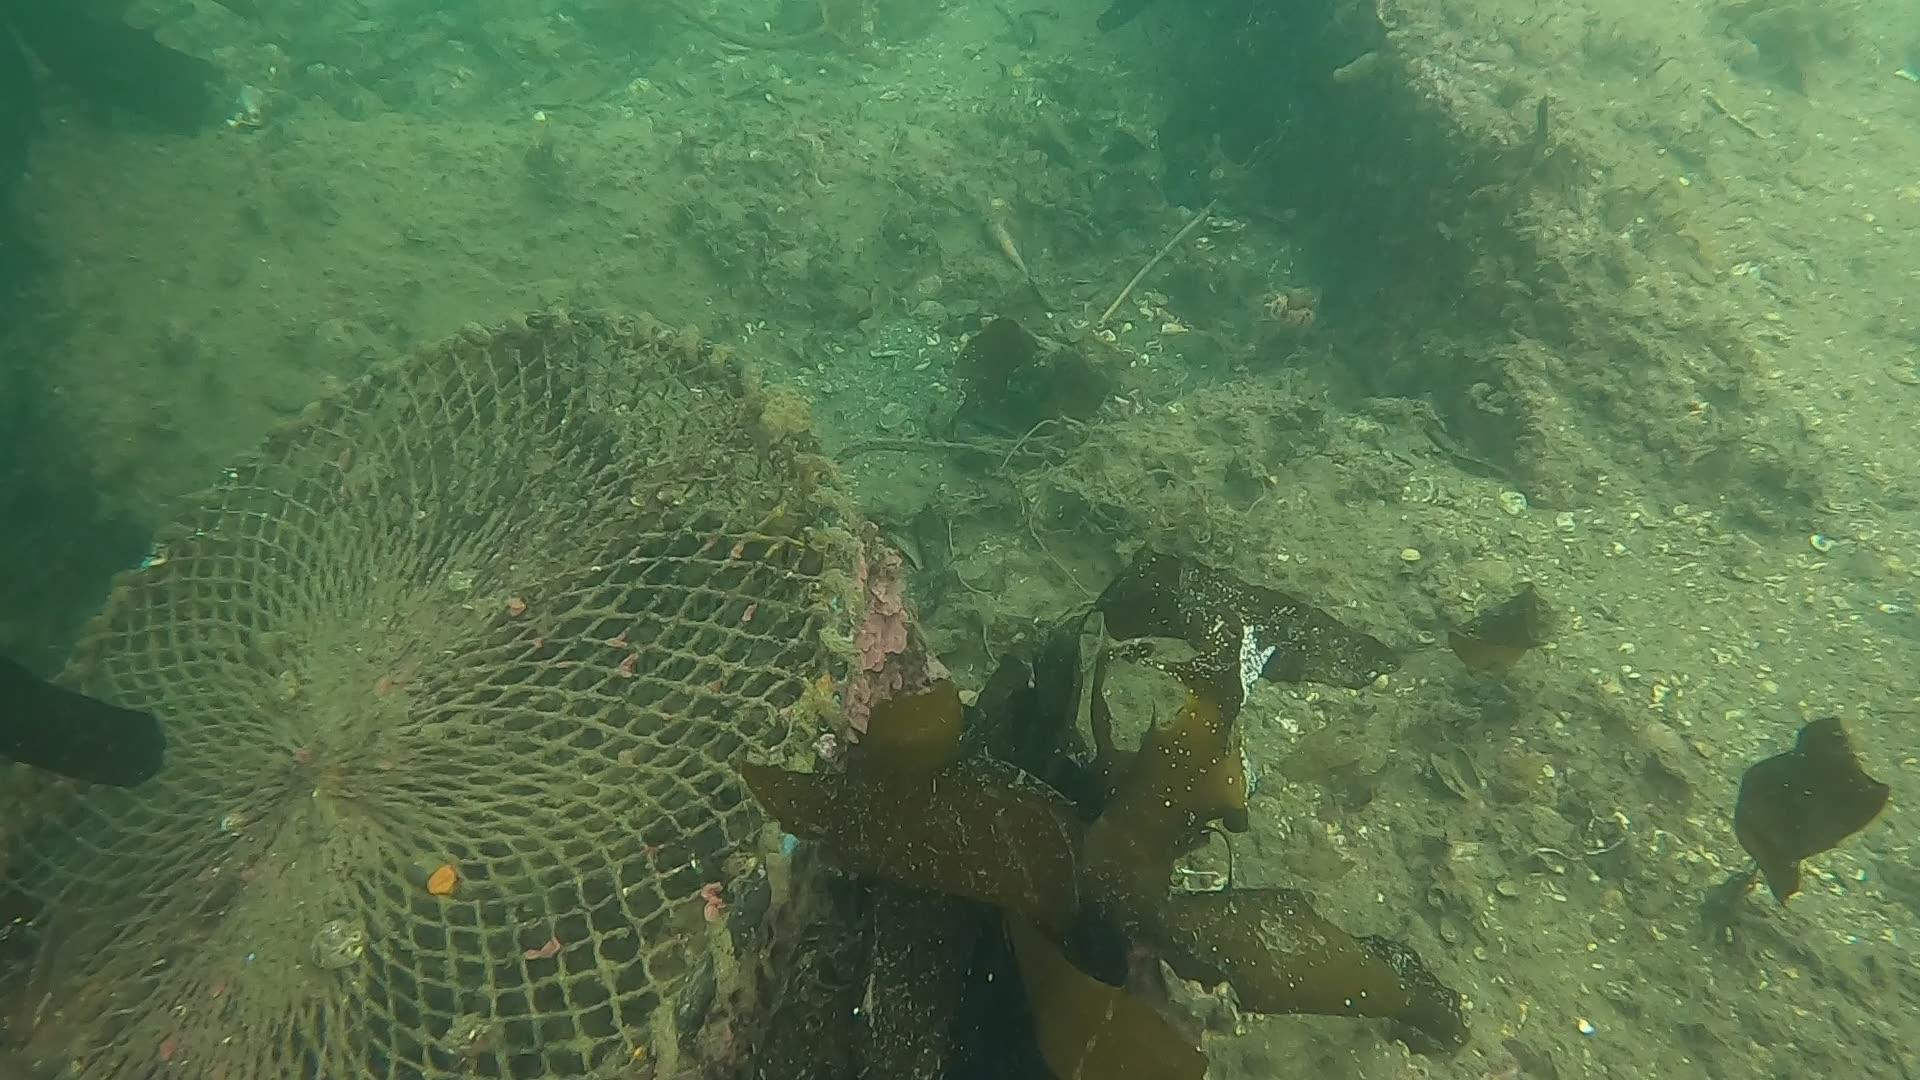circular fish trap: (0, 295, 872, 1080)
